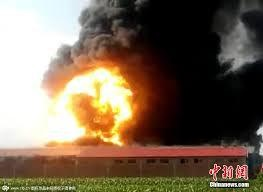fire: (44, 64, 135, 145)
